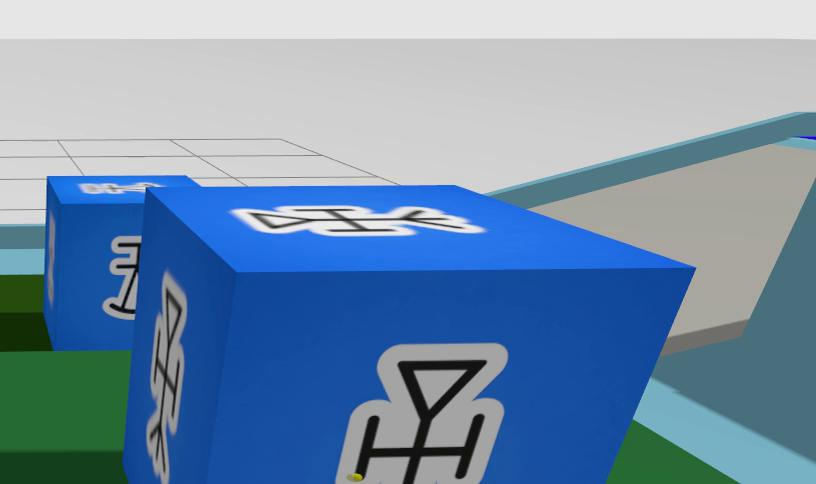KFS_REAL: (122, 185, 693, 484), (42, 175, 196, 350), (336, 344, 506, 484), (146, 271, 187, 484), (232, 205, 485, 237), (102, 236, 140, 321)
